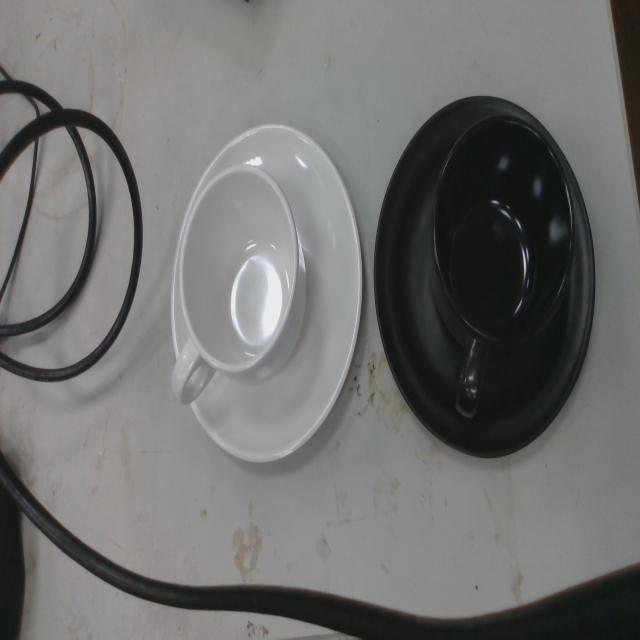black: (370, 91, 599, 465)
white: (168, 117, 366, 471)
